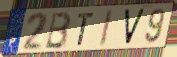2: (21, 11, 49, 53)
9: (143, 8, 166, 46)
B: (44, 10, 73, 50)
I: (98, 9, 114, 49)
T: (76, 11, 96, 47)
V: (122, 7, 147, 47)
